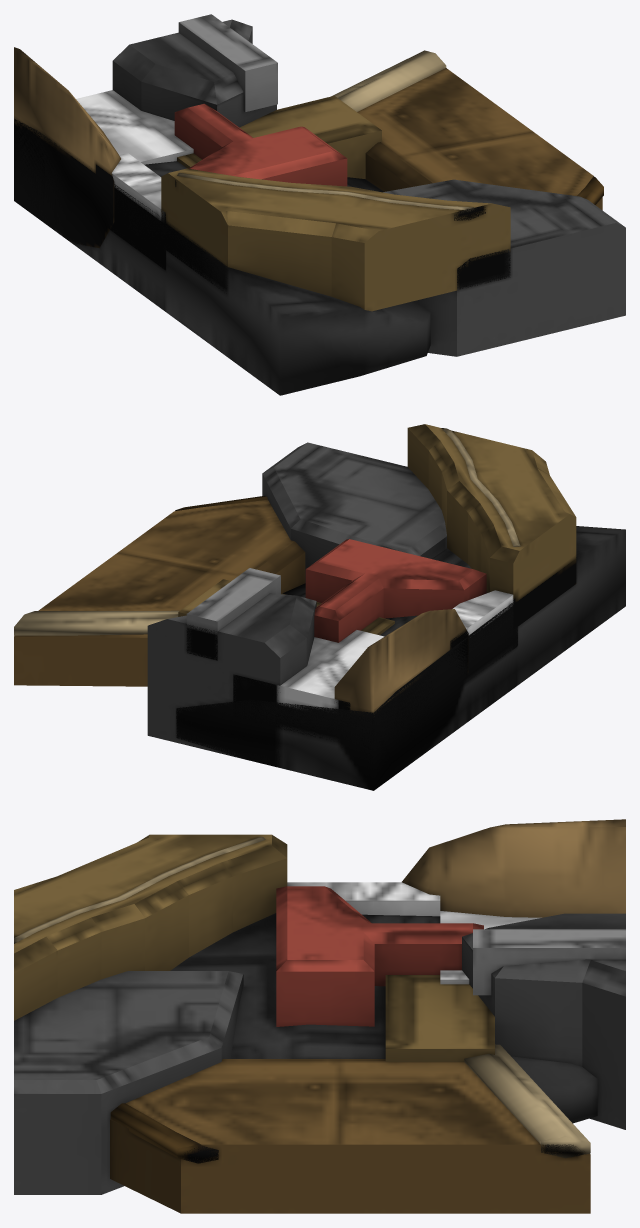
Rendered from newsh4-54.glb.
3 views of the same model, one above another, from view 1: azimuth 30°, elevation 25°; view 2: azimuth 150°, elevation 25°; view 3: azimuth 270°, elevation 25° (orthographic). The views are drawn at different scales.
Parts seen in each view (by area): view 1: newsh4-54; view 2: newsh4-54; view 3: newsh4-54.
Part boxes in pixels (<box>): newsh4-54: <box>14,14,625,395</box>; newsh4-54: <box>14,424,625,790</box>; newsh4-54: <box>14,819,625,1213</box>.
Bounding box in the file's own units: 2 × 0.7644 × 2.33.
10 materials, 10 textured.
